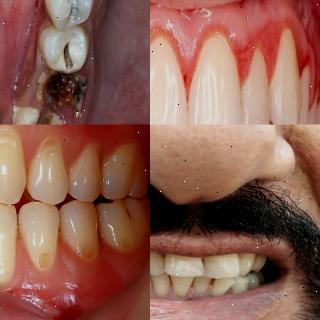Gum Swelling: (150, 0, 316, 109), (3, 238, 90, 299), (9, 124, 57, 172), (17, 48, 45, 105)
cavities: (53, 35, 85, 72), (13, 110, 62, 124)
maligned: (267, 17, 301, 125), (210, 274, 235, 298), (238, 246, 252, 279), (235, 274, 252, 294)
stains: (164, 272, 180, 291), (205, 277, 221, 293), (186, 277, 198, 292)
